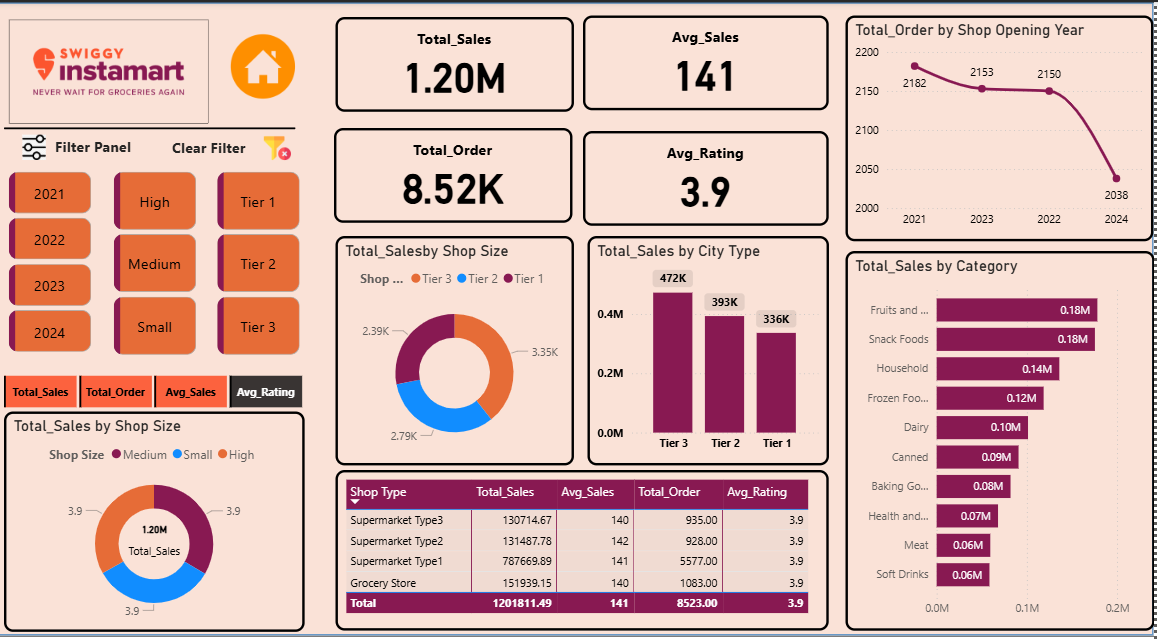

The dashboard page shown, as its layout file describes it:
{"tool":"powerbi","page":{"name":"Page 1","canvas":[1280,720],"ordinal":0},"visuals":[{"type":"shape","box":[0,0,1280.5,700.7],"z":0},{"type":"image","box":[10.1,0,230.9,153.9],"z":1000},{"type":"advancedSlicerVisual","fields":{"Values":["Metric.Metric"]},"box":[10.1,407.1,332.2,40.5],"z":3000},{"type":"donutChart","title":"Total_Sales by Shop Size","fields":{"Y":["Grocery Shop.Avg_Rating"],"Category":["Grocery Shop.Shop Size"]},"box":[10.1,451.6,332.2,243],"z":4000},{"type":"card","fields":{"Values":["Grocery Shop.Total_Sales"]},"box":[139.7,550.9,72.9,81],"z":5000},{"type":"columnChart","title":"Total_Sales by City Type","fields":{"Y":["Grocery Shop.Total_Sales"],"Category":["Grocery Shop.Shop City Type"]},"box":[654.3,258.4,266.7,253.4],"z":6000},{"type":"donutChart","title":"Total_Salesby Shop Size","fields":{"Y":["Grocery Shop.Total_Order"],"Category":["Grocery Shop.Shop City Type"]},"box":[376,258.4,263.4,253.4],"z":7000},{"type":"tableEx","fields":{"Values":["Grocery Shop.Shop Type","Grocery Shop.Total_Sales","Grocery Shop.Avg_Sales","Grocery Shop.Total_Order","Grocery Shop.Avg_Rating"]},"box":[376,516.8,545,177.2],"z":8000},{"type":"lineChart","fields":{"Category":["Grocery Shop.Shop Opening Year"],"Y":["Grocery Shop.Total_Order"]},"box":[939.7,14.2,340.3,249.1],"z":9000},{"type":"clusteredBarChart","fields":{"Y":["Grocery Shop.Total_Sales"],"Category":["Grocery Shop.Category"]},"box":[939.2,275,341.2,419.1],"z":10000},{"type":"advancedSlicerVisual","fields":{"Values":["Grocery Shop.Shop Opening Year"]},"box":[10.1,182.3,101.3,212.7],"z":11000},{"type":"advancedSlicerVisual","fields":{"Values":["Grocery Shop.Shop Size"]},"box":[125.6,182.3,101.3,212.7],"z":12000},{"type":"advancedSlicerVisual","fields":{"Values":["Grocery Shop.Shop City Type"]},"box":[241,182.3,101.3,212.7],"z":13000},{"type":"image","box":[241,22.3,111.4,99.2],"z":14000},{"type":"image","box":[24.3,139.7,36.5,42.5],"z":15000},{"type":"textbox","box":[60.8,141.8,101.3,42.5],"z":16000},{"type":"textbox","box":[190.4,143.8,101.3,42.5],"z":17000},{"type":"image","box":[291.6,139.7,40.5,44.6],"z":18000},{"type":"shape","box":[10.1,119.5,322,40.5],"z":20000},{"type":"cardVisual","fields":{"Data":["Grocery Shop.Total_Sales"]},"box":[376,16.6,263.4,104.4],"z":20001},{"type":"cardVisual","fields":{"Data":["Grocery Shop.Avg_Sales"]},"box":[649.3,14.9,271.7,104.4],"z":20002},{"type":"cardVisual","fields":{"Data":["Grocery Shop.Total_Order"]},"box":[374.4,139.1,263.4,104.4],"z":20003},{"type":"cardVisual","fields":{"Data":["Grocery Shop.Avg_Rating"]},"box":[649.3,142.5,271.7,104.4],"z":20004}]}

Visuals, with their boxes in screenshot pixels (x1, y1, x2, y2), scaled from the page's 1280x720 canvas onto the 1158x642 screenshot:
shape: <bbox>0, 0, 1157, 625</bbox>
image: <bbox>9, 0, 218, 137</bbox>
advancedSlicerVisual - Metric.Metric: <bbox>9, 363, 310, 399</bbox>
"Total_Sales by Shop Size" donutChart: <bbox>9, 403, 310, 619</bbox>
card - Grocery Shop.Total_Sales: <bbox>126, 491, 192, 563</bbox>
"Total_Sales by City Type" columnChart: <bbox>592, 230, 833, 456</bbox>
"Total_Salesby Shop Size" donutChart: <bbox>340, 230, 578, 456</bbox>
tableEx - Grocery Shop.Shop Type x Grocery Shop.Total_Sales: <bbox>340, 461, 833, 619</bbox>
lineChart - Grocery Shop.Shop Opening Year x Grocery Shop.Total_Order: <bbox>850, 13, 1157, 235</bbox>
clusteredBarChart - Grocery Shop.Total_Sales x Grocery Shop.Category: <bbox>850, 245, 1157, 619</bbox>
advancedSlicerVisual - Grocery Shop.Shop Opening Year: <bbox>9, 163, 101, 352</bbox>
advancedSlicerVisual - Grocery Shop.Shop Size: <bbox>114, 163, 205, 352</bbox>
advancedSlicerVisual - Grocery Shop.Shop City Type: <bbox>218, 163, 310, 352</bbox>
image: <bbox>218, 20, 319, 108</bbox>
image: <bbox>22, 125, 55, 162</bbox>
textbox: <bbox>55, 126, 147, 164</bbox>
textbox: <bbox>172, 128, 264, 166</bbox>
image: <bbox>264, 125, 300, 164</bbox>
shape: <bbox>9, 107, 300, 143</bbox>
cardVisual - Grocery Shop.Total_Sales: <bbox>340, 15, 578, 108</bbox>
cardVisual - Grocery Shop.Avg_Sales: <bbox>587, 13, 833, 106</bbox>
cardVisual - Grocery Shop.Total_Order: <bbox>339, 124, 577, 217</bbox>
cardVisual - Grocery Shop.Avg_Rating: <bbox>587, 127, 833, 220</bbox>
